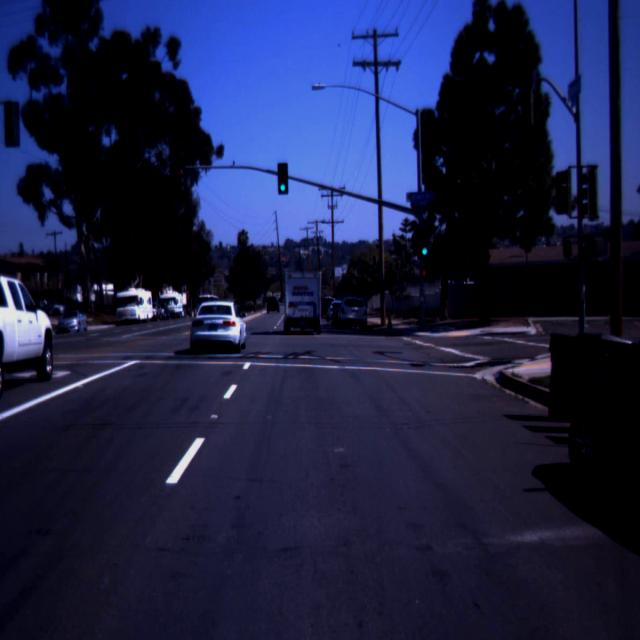yesil: (278, 162, 288, 195), (420, 232, 429, 257)
